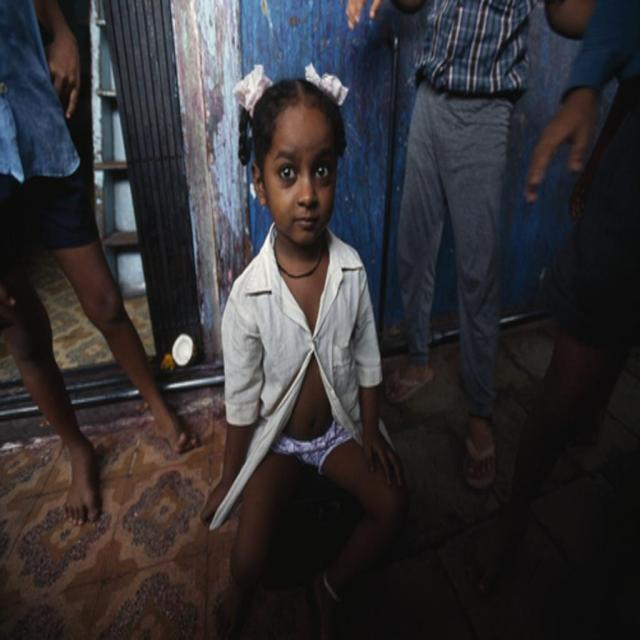Face: (263, 102, 345, 250)
